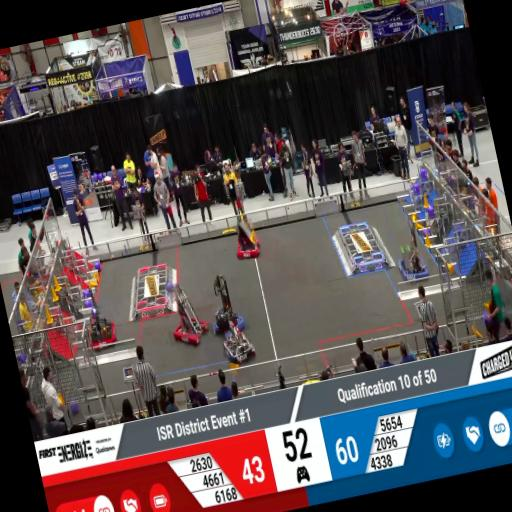robot: (164, 289, 212, 350), (203, 284, 248, 342), (217, 324, 258, 370), (80, 304, 118, 352), (393, 240, 430, 285), (228, 216, 264, 262)
